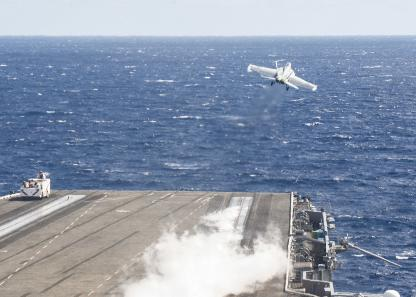F15: (249, 61, 318, 90)
